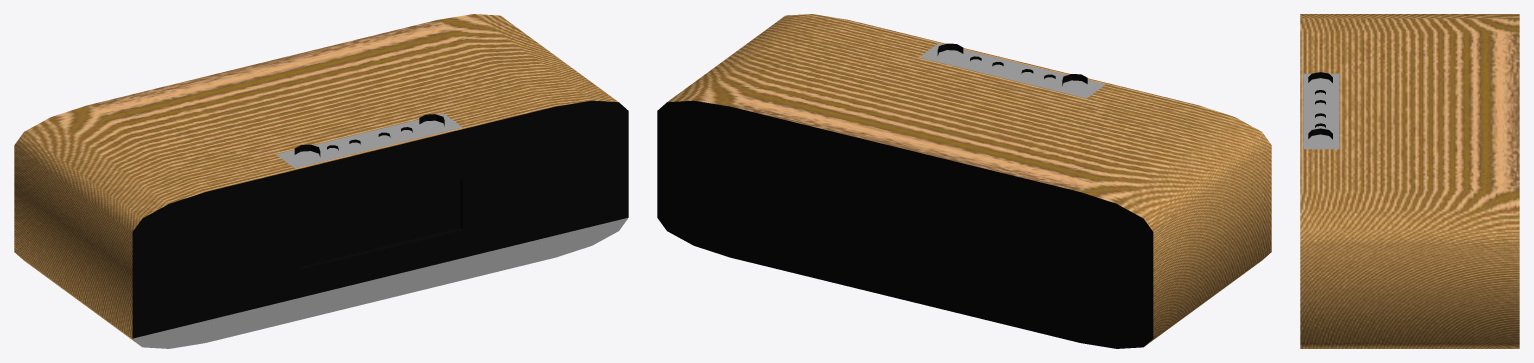
Rendered from boombox.glb.
3 renders of one model, left to right at view 1: azimuth 30°, elevation 25°; view 2: azimuth 150°, elevation 25°; view 3: azimuth 270°, elevation 25°, orthographic. The views are drawn at different scales.
Parts seen in each view (by area): view 1: Boombox; view 2: Boombox; view 3: Boombox.
Boxes of the visible parts, bbox=[...] form: Boombox: bbox=[14, 14, 628, 348]; Boombox: bbox=[657, 14, 1271, 348]; Boombox: bbox=[1300, 14, 1519, 348].
Size of what is drawn, in the model's own units: 0.6269 by 0.1968 by 0.2592.
Materials: 4 (1 with a texture image).
